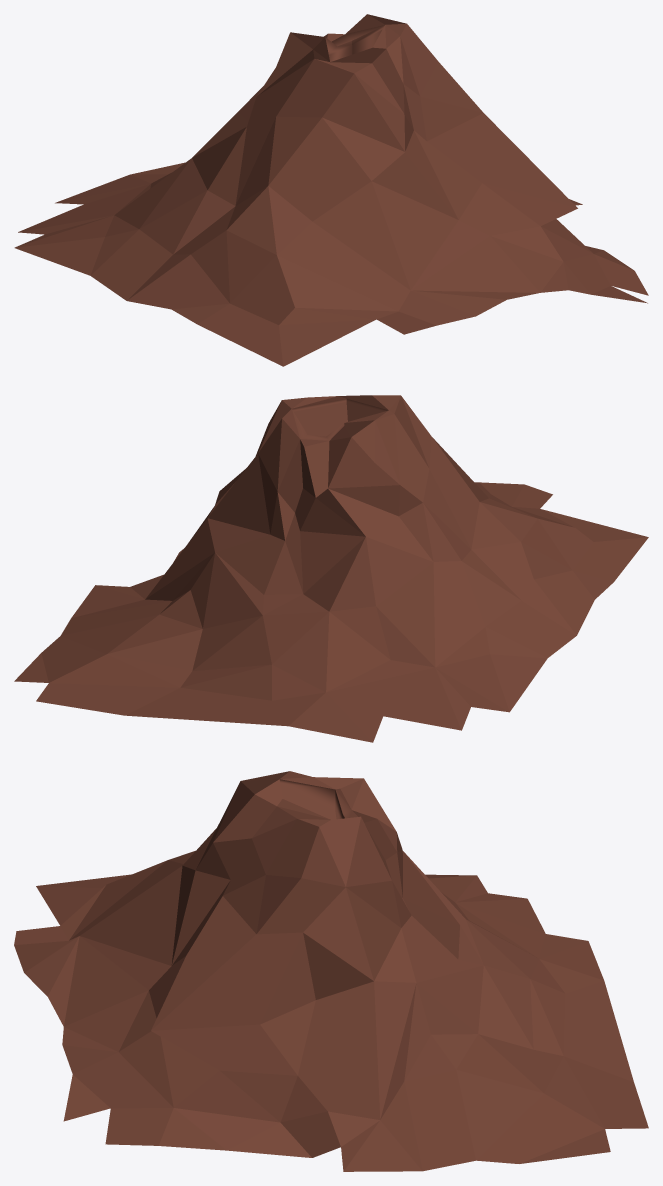
The model's file is kazan_yama.fbx.
The picture shows the model from 3 angles, top to bottom: view 1: azimuth 30°, elevation 25°; view 2: azimuth 150°, elevation 25°; view 3: azimuth 270°, elevation 25°; orthographic projection. The views are drawn at different scales.
Parts seen in each view (by area): view 1: polySurface212; view 2: polySurface212; view 3: polySurface212.
Part boxes in pixels (x1,y1,x2,y2): polySurface212: (14,14,648,366); polySurface212: (14,395,648,742); polySurface212: (14,771,648,1171).
Size of the model in its own units: 344 by 160 by 354.
